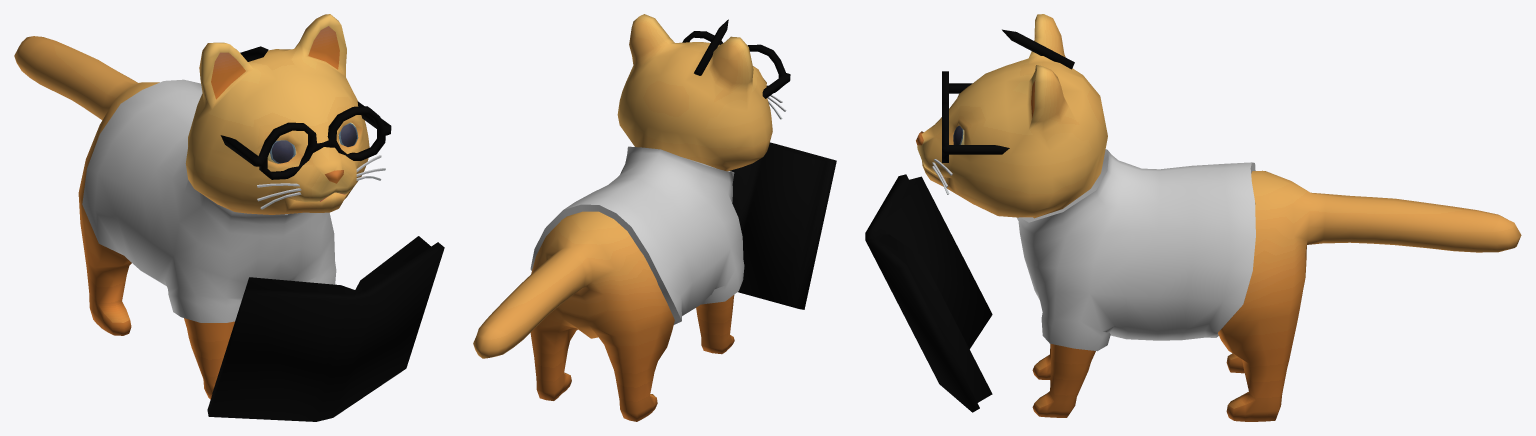
File: Library Cat.obj
3 views of the same model, side by side, from view 1: azimuth 30°, elevation 25°; view 2: azimuth 150°, elevation 25°; view 3: azimuth 270°, elevation 25° (orthographic). The views are drawn at different scales.
Parts seen in each view (by area): view 1: Cat001, Clothes, Items; view 2: Cat001, Clothes, Items; view 3: Cat001, Clothes, Items.
Part boxes in pixels (x1,y1,x2,y2): Cat001: (14,14,385,399); Clothes: (82,79,336,322); Items: (207,46,444,421); Cat001: (473,14,786,421); Clothes: (530,146,744,324); Items: (682,19,836,309); Cat001: (916,14,1521,421); Clothes: (1016,149,1255,351); Items: (865,29,1074,412).
Bounding box in the file's own units: 82.43 × 146 × 246.
